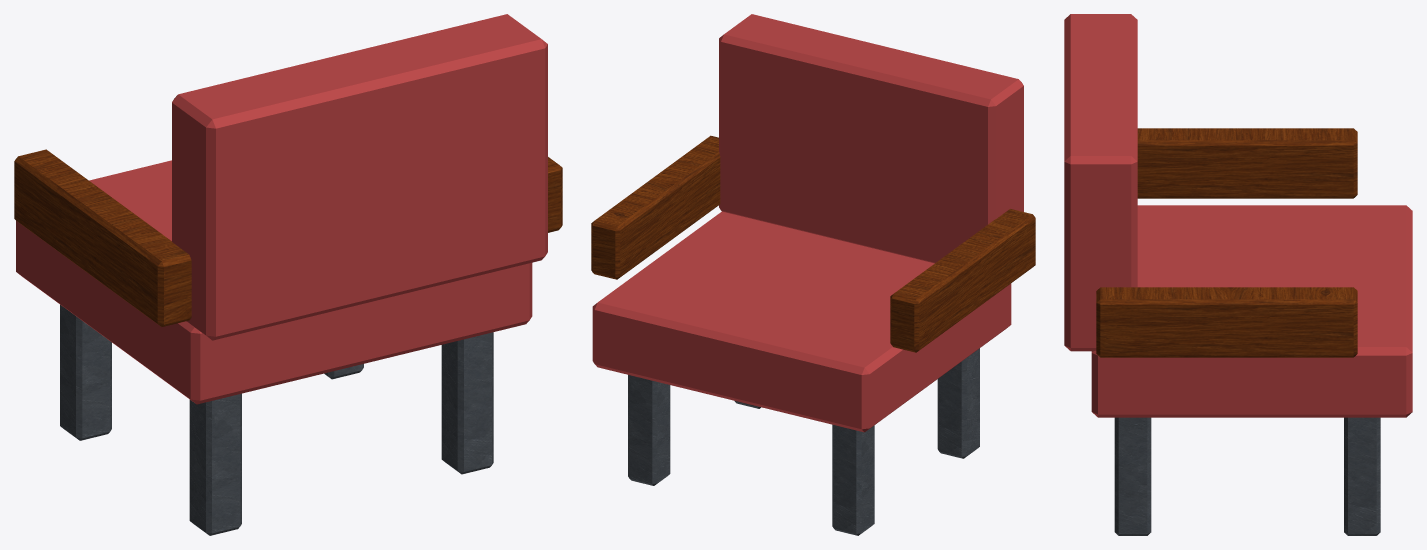
Rendered from train_seat.gltf.
3 renders of one model, left to right at view 1: azimuth 30°, elevation 25°; view 2: azimuth 150°, elevation 25°; view 3: azimuth 270°, elevation 25°, orthographic. The views are drawn at different scales.
Size of the model in its own units: 0.9 by 0.94 by 0.76.
Materials: 3 (2 with a texture image).
